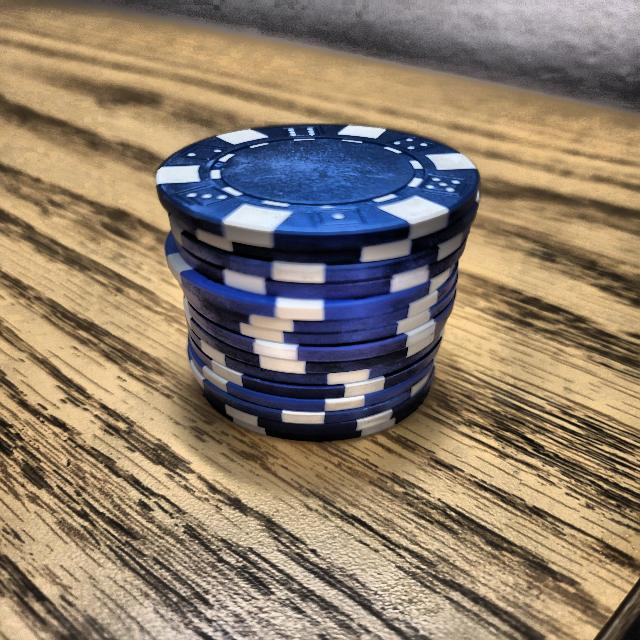Chip: (99, 109, 511, 472)
